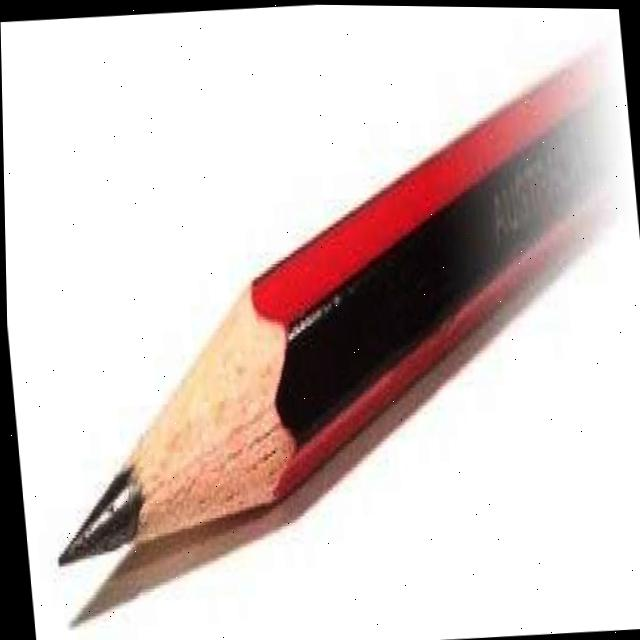pencil: (26, 7, 635, 564)
